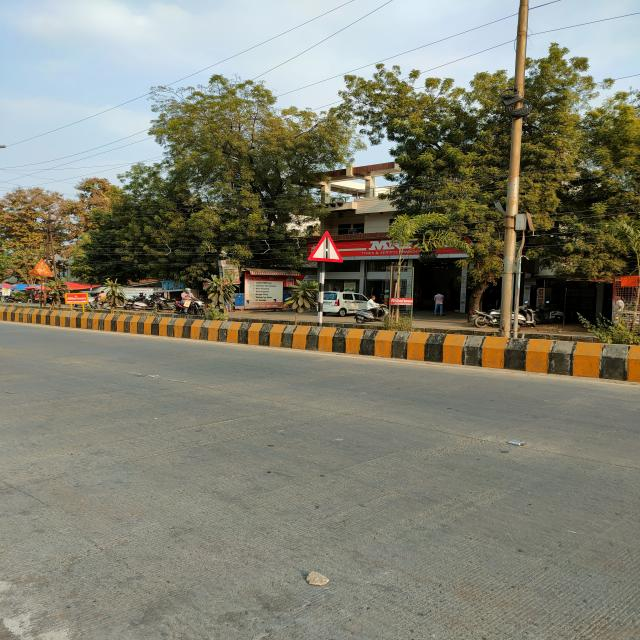GAP_IN_MEDIAN: (307, 229, 344, 263)
